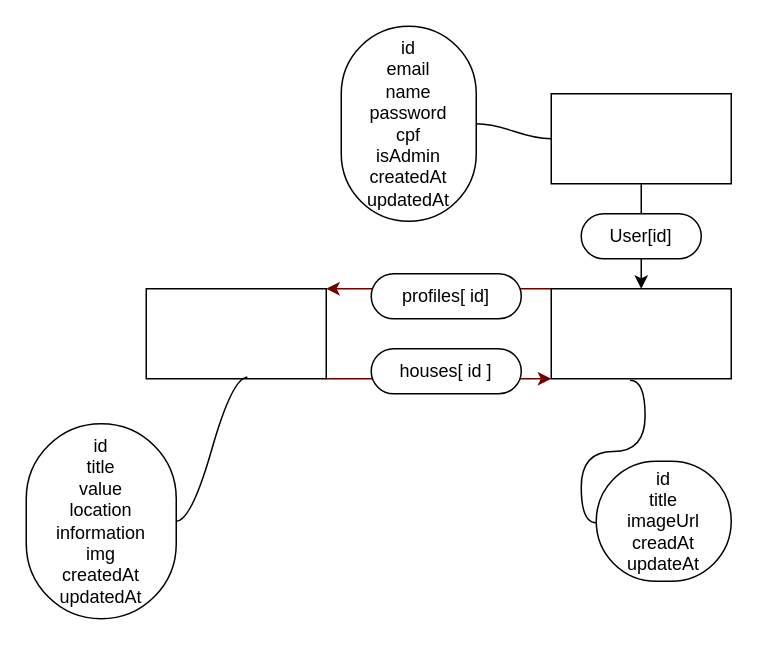
The diagram is 758 pixels wide and 645 high, and some of its shapes have lost their labels. Here are the shapes that lost their labels. From the top down, the centre of each, then its label:
At (x=640, y=138): "Userdb".
At (x=235, y=333): "Homedb".
At (x=640, y=333): "Profiledb".
